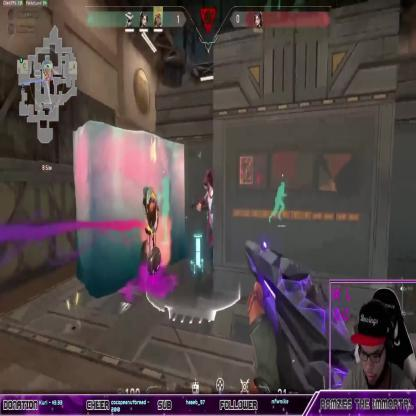enemy: (198, 170, 218, 270)
enemy_head: (204, 172, 212, 188)
